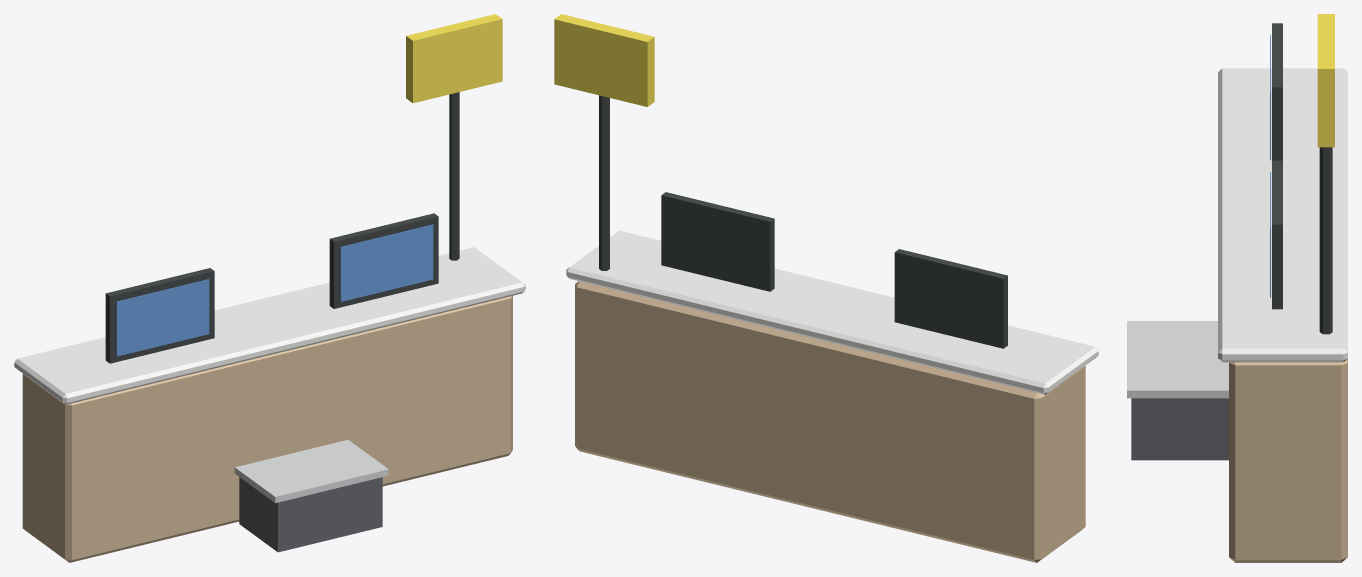
The model's file is checkin-desk.glb.
3 renders of one model, left to right at view 1: azimuth 30°, elevation 25°; view 2: azimuth 150°, elevation 25°; view 3: azimuth 270°, elevation 25°, orthographic. The views are drawn at different scales.
Visible parts, largest first — view 1: checkin-desk; view 2: checkin-desk; view 3: checkin-desk.
Part boxes in pixels (x1,y1,x2,y2): checkin-desk: (14,14,525,562); checkin-desk: (554,14,1098,562); checkin-desk: (1127,14,1347,562).
Size of the model in its own units: 3.2 by 2.6 by 1.02.
